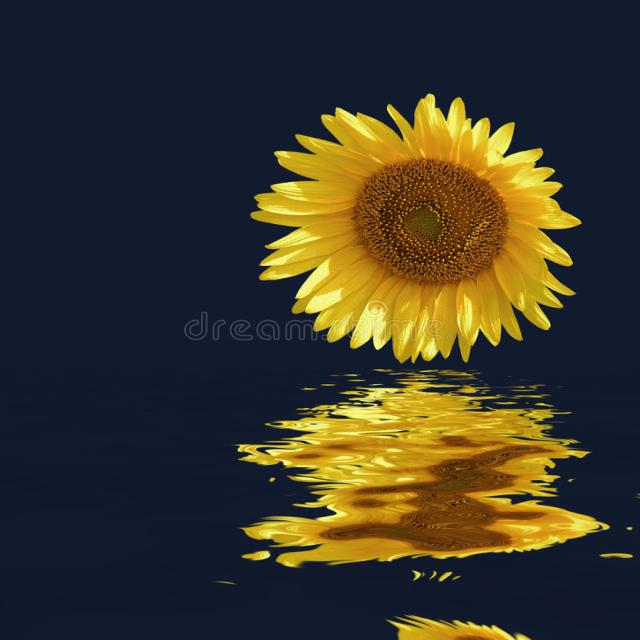sunflower: (226, 84, 592, 362)
